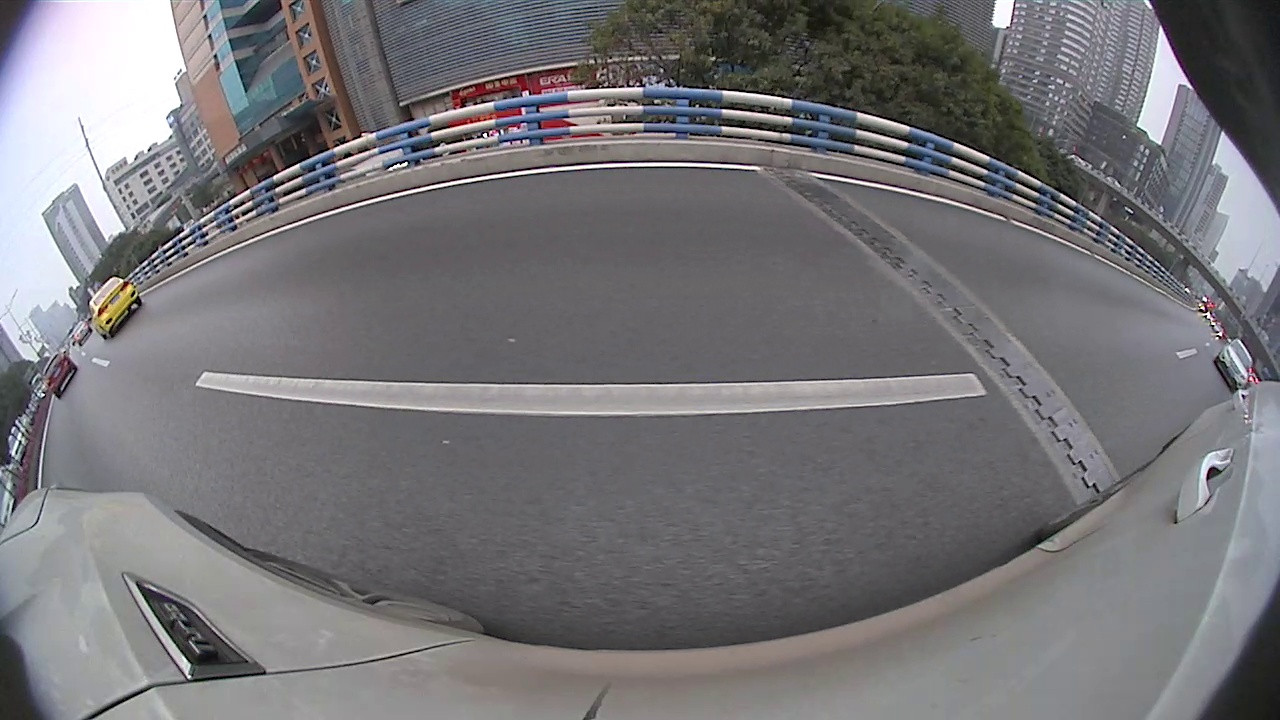car: (86, 277, 145, 342), (1210, 336, 1254, 395), (42, 348, 79, 402)
